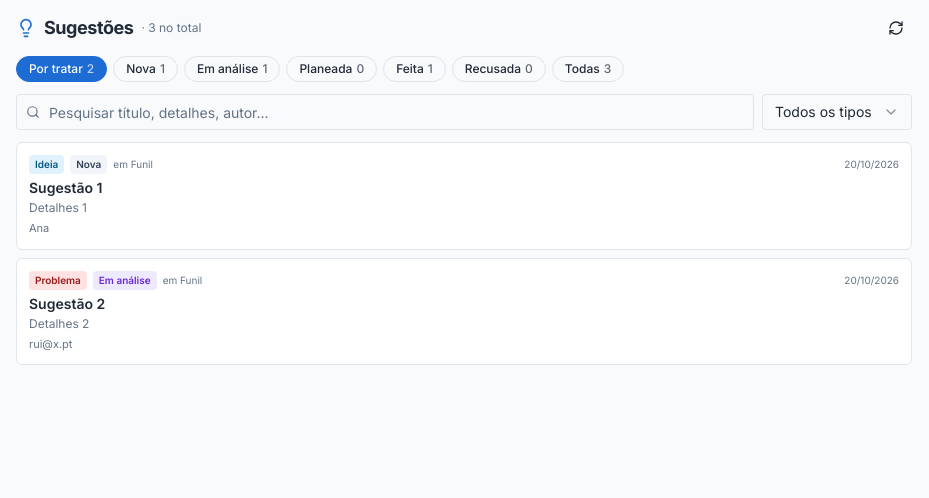
Test: Página Sugestões (gestão) › por defeito mostra as por tratar; os filtros por estado e pesquisa funcionam
expect the text "Sugestão 1" is shown: met, box [29,179,102,196]
expect the text "Sugestão 2" is shown: met, box [29,294,105,312]
Click the button "Feita1": (414, 69) [383,56,446,82]
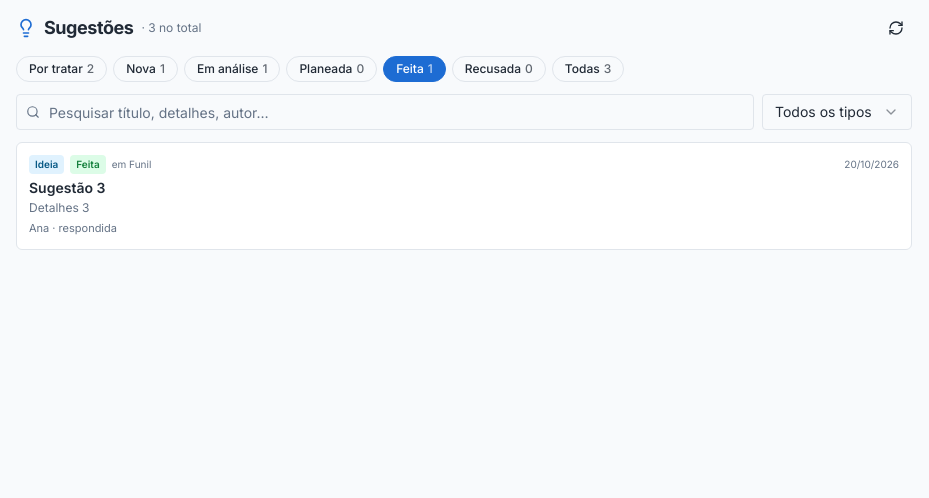
expect the text "Sugestão 3" is shown: met, box [29,179,105,196]
expect the button "Sugestão 1" is gone: met
Click the button "Todas3": (588, 69) [552,56,624,82]
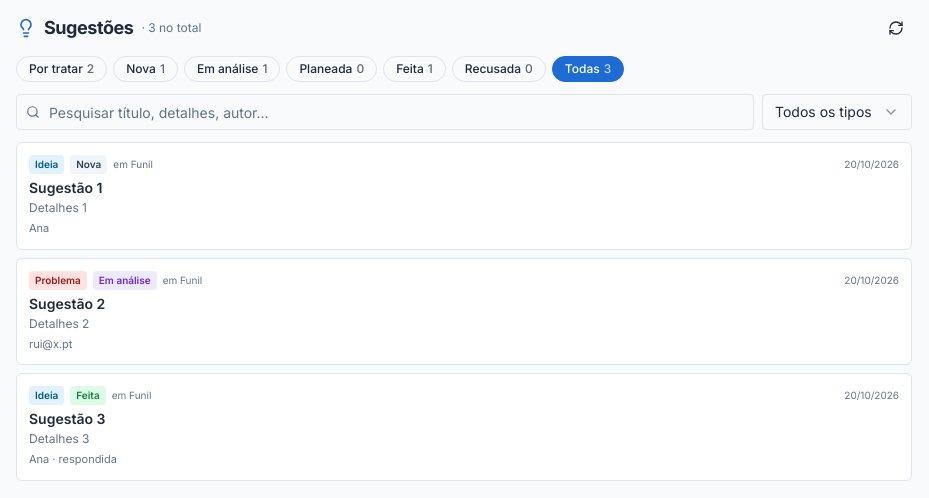
In the field with placeholder "Pesquisar título, detalhes, autor…": (385, 112) [16,94,754,130], type "rui@x"
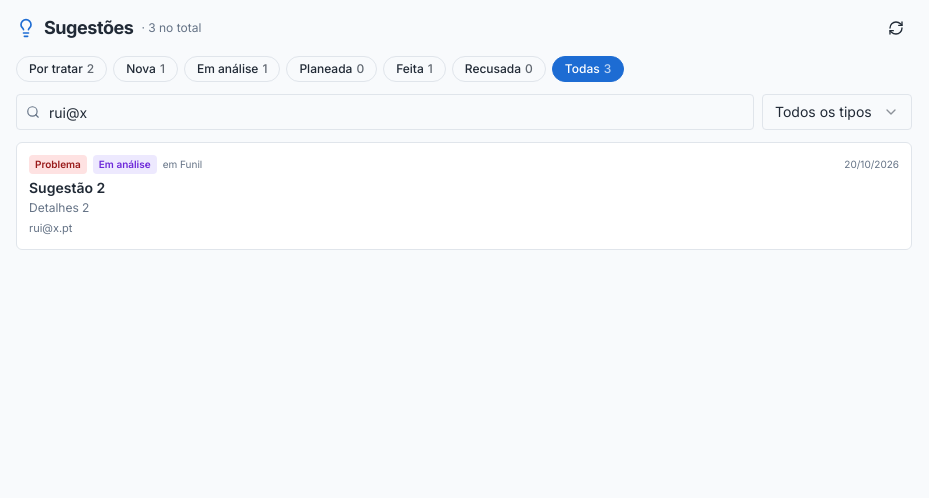
expect the text "Sugestão 2" is shown: met, box [29,179,105,196]
expect the button "Sugestão 1" is gone: met
